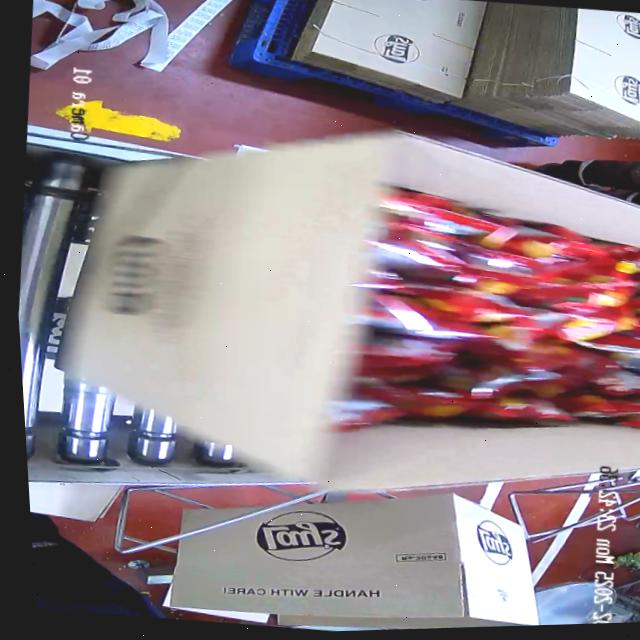MASALA: (312, 198, 640, 457)
